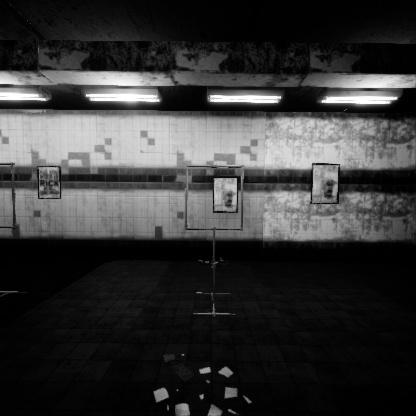gate: (185, 185, 249, 251)
